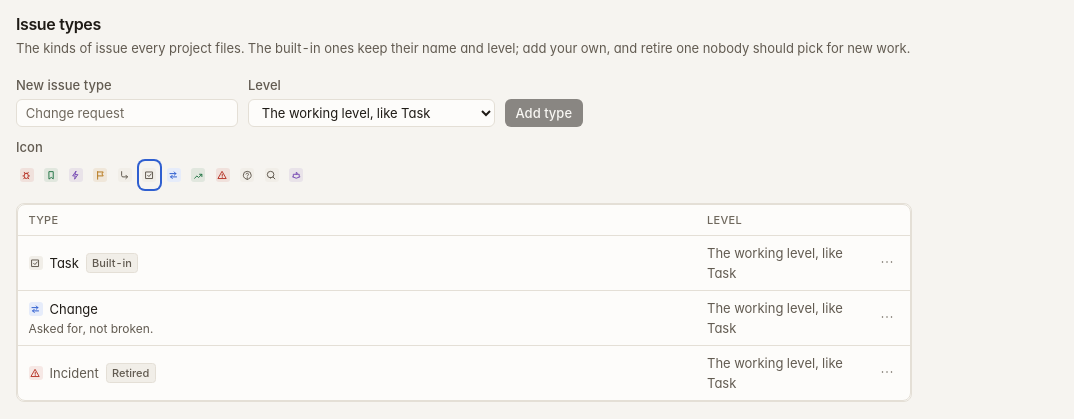
Test: the issue types page › offers a built-in type to edit but not to retire or delete
Click the button named "Actions for Task": point(887, 262) [875, 250, 900, 275]
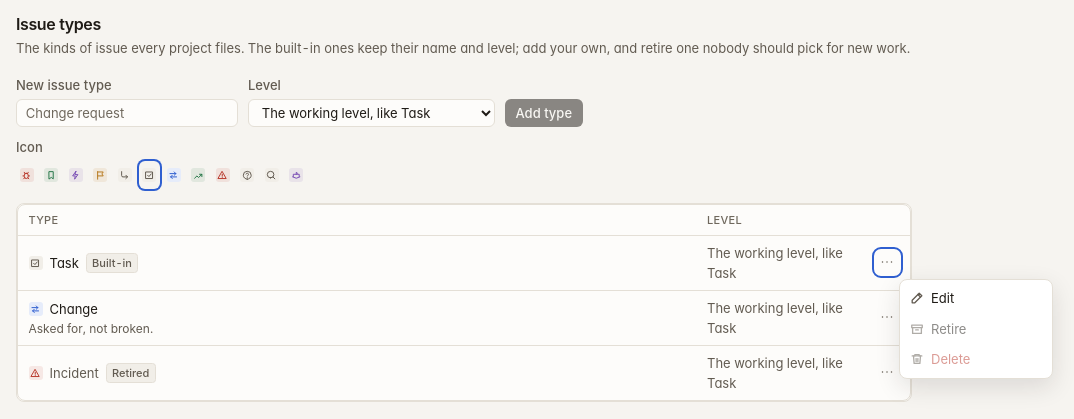
Check: the menu item "Edit" is enabled, box [903, 283, 1048, 314]
Check: the menu item "Retire" is disabled, box [903, 314, 1048, 344]
Check: the menu item "Delete" is disabled, box [903, 344, 1048, 375]
